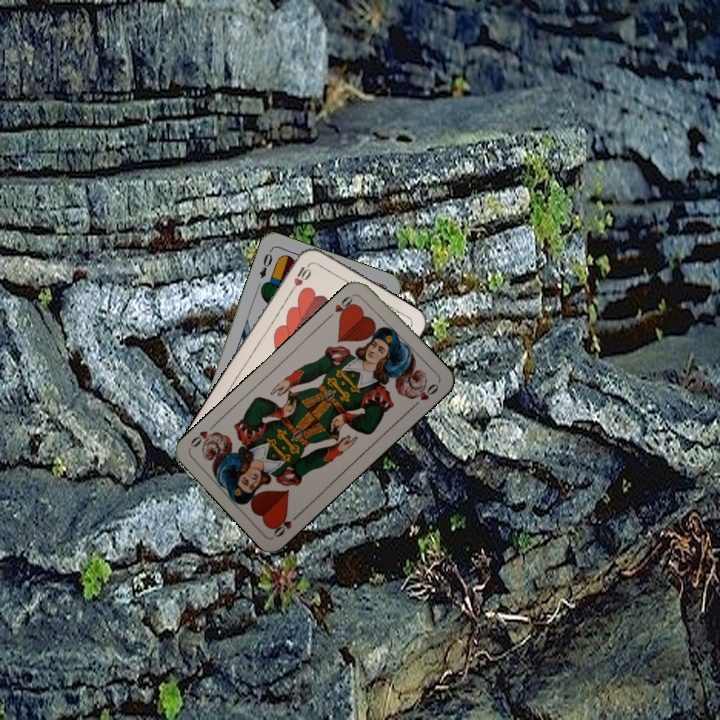EO: (255, 246, 275, 281)
H10: (286, 259, 313, 296)
HO: (268, 508, 303, 540), (324, 290, 358, 322)
